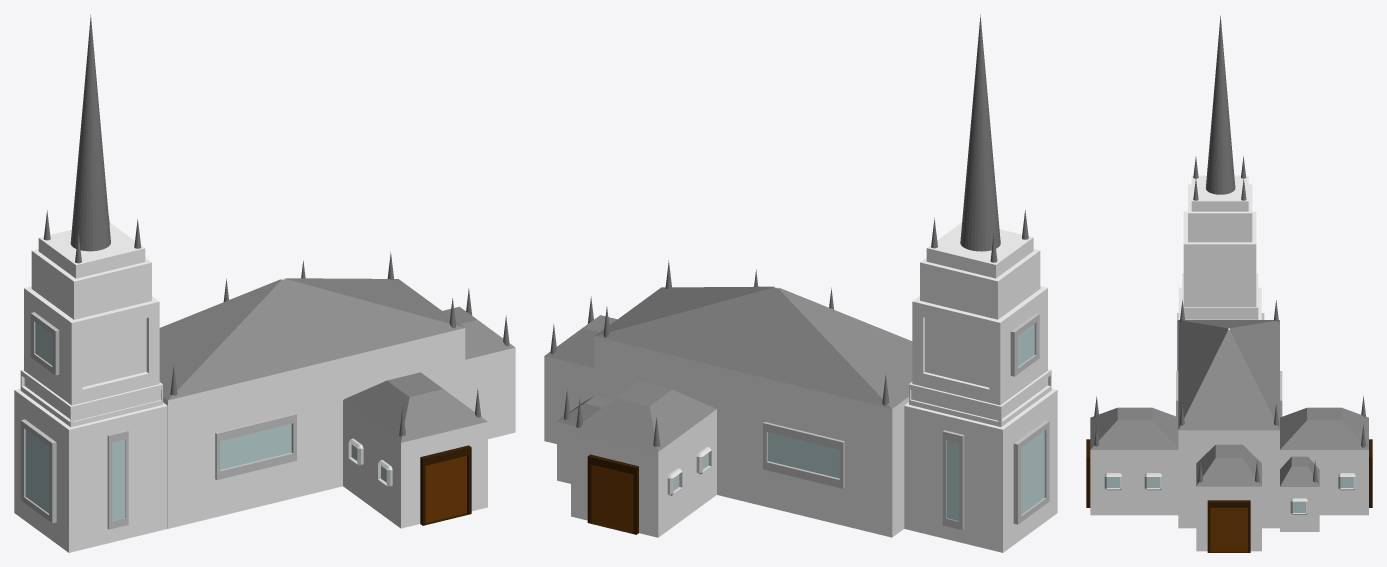
Rendered from Church.fbx.
The picture shows the model from 3 angles, left to right: view 1: azimuth 30°, elevation 25°; view 2: azimuth 150°, elevation 25°; view 3: azimuth 270°, elevation 25°; orthographic projection. The views are drawn at different scales.
Visible parts, largest first — view 1: Cube.001; view 2: Cube.001; view 3: Cube.001.
Part boxes in pixels (left/top/right/bottom): Cube.001: left=14, top=14, right=515, bottom=552; Cube.001: left=544, top=14, right=1057, bottom=552; Cube.001: left=1086, top=15, right=1372, bottom=552.
Bounding box in the file's own units: 4699 × 4871 × 3282.
